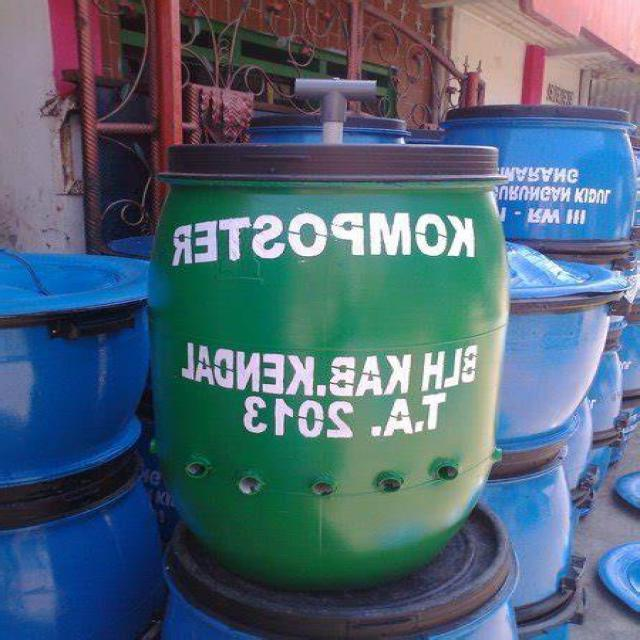garbage container: (33, 128, 526, 586)
